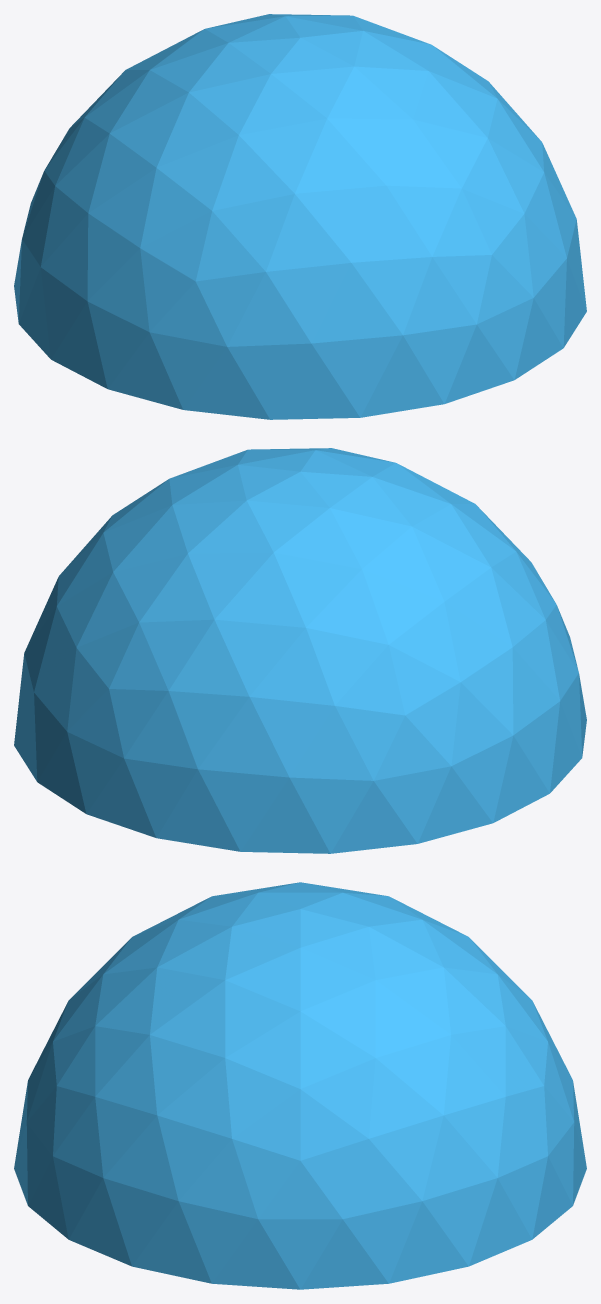
The model's file is FX_Shield_Dome.fbx.
3 renders of one model, top to bottom at view 1: azimuth 30°, elevation 25°; view 2: azimuth 150°, elevation 25°; view 3: azimuth 270°, elevation 25°, orthographic.
Parts seen in each view (by area): view 1: Dome; view 2: Dome; view 3: Dome.
Part boxes in pixels (x1,y1,x2,y2): Dome: [14, 14, 586, 419]; Dome: [14, 448, 586, 853]; Dome: [14, 882, 586, 1289].
Bounding box in the file's own units: 10 × 5 × 10.
